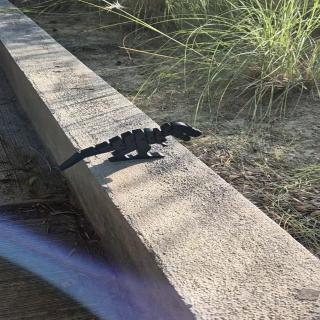dino: (58, 122, 202, 172)
